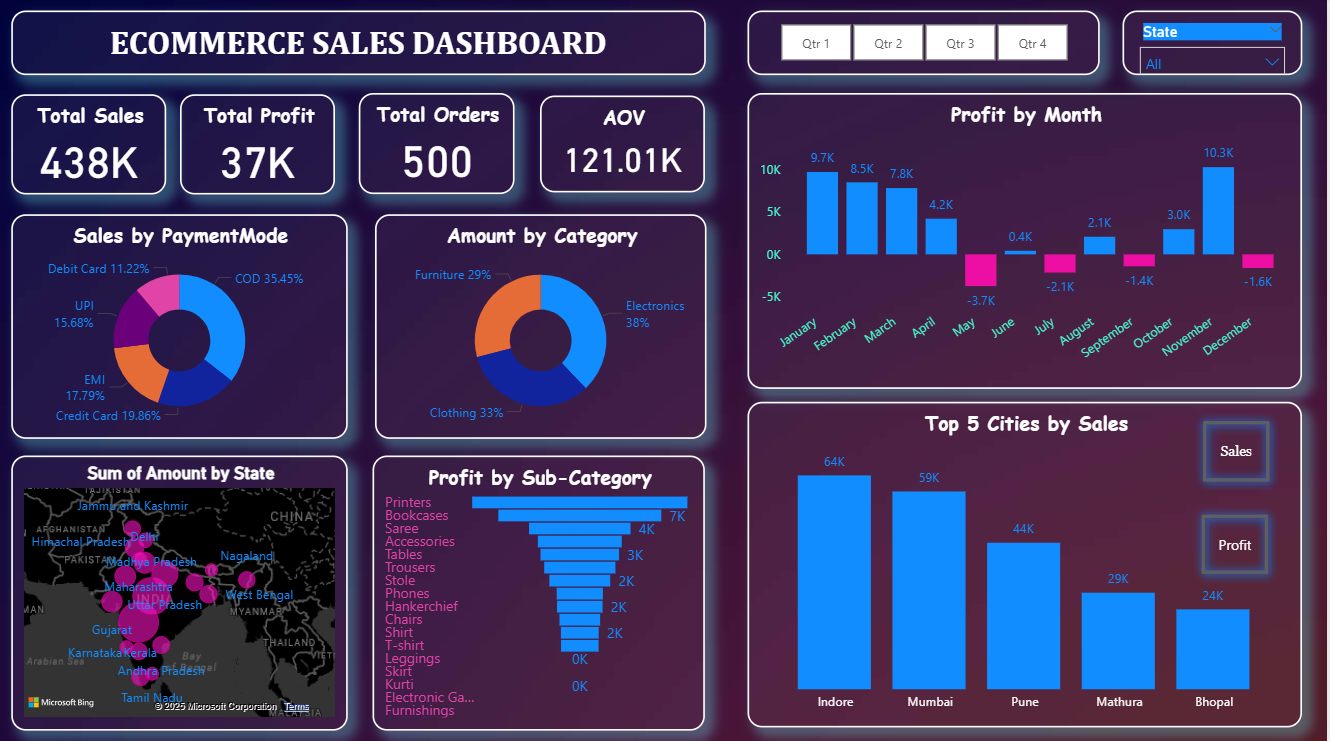

The dashboard page shown, as its layout file describes it:
{"tool":"powerbi","page":{"name":"Page 1","canvas":[1280,720],"ordinal":0},"visuals":[{"type":"donutChart","title":"Amount by Category","fields":{"Y":["Sum(Details.Amount)"],"Category":["Details.Category"]},"box":[361.9,208.7,319.7,217.2],"z":0},{"type":"card","title":"Total Profit","fields":{"Values":["Sum(Details.Profit)"]},"box":[174.1,92.4,149.9,96.9],"z":1000},{"type":"card","title":"Total Orders","fields":{"Values":["CountNonNull(Orders (2).Order ID)"]},"box":[346,91.9,150,97.3],"z":2000},{"type":"card","title":"Total Sales","fields":{"Values":["Sum(Details.Amount)"]},"box":[10.6,92.4,149.9,96.9],"z":3000},{"type":"map","fields":{"Category":["Orders (2).State"],"Size":["Sum(Details.Amount)"]},"box":[10.9,441.6,324.5,265.4],"z":4000},{"type":"textbox","box":[10.6,12.1,670.8,62.1],"z":5000},{"type":"columnChart","title":"Profit by Month","fields":{"Category":["Orders (2).Order Date.Variation.Date Hierarchy.Month"],"Y":["Sum(Details.Profit)"]},"box":[721.1,92.1,535.5,285.5],"z":6000},{"type":"slicer","fields":{"Values":["Orders (2).Order Date.Variation.Date Hierarchy.Quarter"]},"box":[721.6,11.7,339.7,62.7],"z":7000},{"type":"slicer","fields":{"Values":["Orders (2).State"]},"box":[1083.2,11.7,173.5,62.7],"z":8000},{"type":"donutChart","title":"Sales by PaymentMode","fields":{"Category":["Details.PaymentMode"],"Y":["Sum(Details.Amount)"]},"box":[10.9,208.7,324.5,217.2],"z":9000},{"type":"clusteredColumnChart","title":"Top 5 Cities by Sales","fields":{"Category":["Orders (2).City"],"Y":["Sum(Details.Amount)"]},"box":[721.1,389.5,535.5,314.5],"z":10000},{"type":"card","title":"AOV","fields":{"Values":["Sum(Details.AvgOrderValue)"]},"box":[521.8,94.6,159.5,93.3],"z":12000},{"type":"funnel","title":"Profit by Sub-Category","fields":{"Category":["Details.Sub-Category"],"Y":["Sum(Details.Profit)"]},"box":[359.5,441.6,320.9,265.4],"z":13000},{"type":"actionButton","box":[1152.3,399.8,81.9,76.4],"z":14000},{"type":"actionButton","box":[1150.9,490.1,81.9,75],"z":15000}]}

Visuals, with their boxes in screenshot pixels (x1, y1, x2, y2), scaled from the page's 1280x720 canvas onto the 1330x741 screenshot:
"Amount by Category" donutChart: [376,215,708,438]
"Total Profit" card: [181,95,337,195]
"Total Orders" card: [360,95,515,195]
"Total Sales" card: [11,95,167,195]
map - Orders (2).State x Sum(Details.Amount): [11,454,349,728]
textbox: [11,12,708,76]
"Profit by Month" columnChart: [749,95,1306,389]
slicer - Orders (2).Order Date.Variation.Date Hierarchy.Quarter: [750,12,1103,77]
slicer - Orders (2).State: [1126,12,1306,77]
"Sales by PaymentMode" donutChart: [11,215,349,438]
"Top 5 Cities by Sales" clusteredColumnChart: [749,401,1306,725]
"AOV" card: [542,97,708,193]
"Profit by Sub-Category" funnel: [374,454,707,728]
actionButton: [1197,411,1282,490]
actionButton: [1196,504,1281,582]
